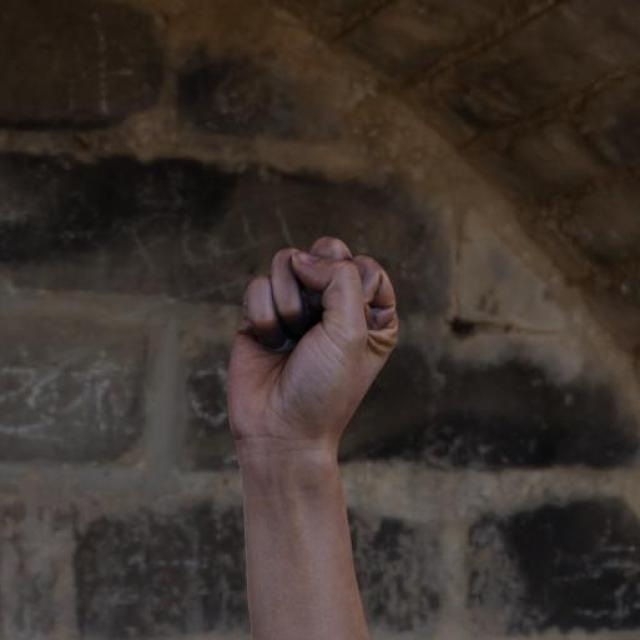S: (220, 231, 403, 458)
